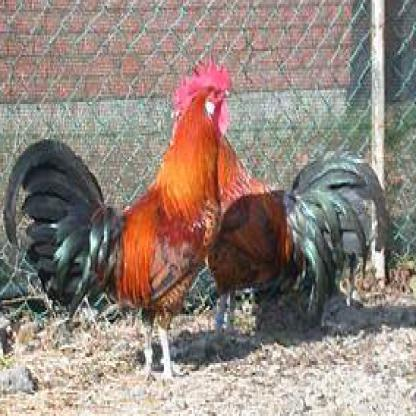chicken: (6, 57, 233, 375), (173, 92, 391, 334)
